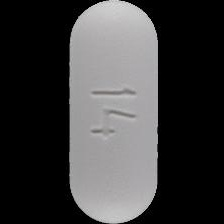43199-014: (0, 0, 224, 224)
